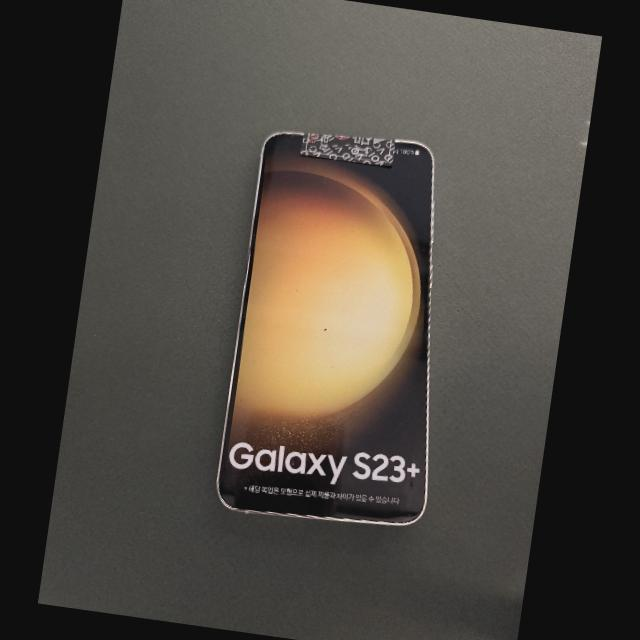phone: (218, 133, 434, 526)
sticker: (300, 133, 396, 167)
